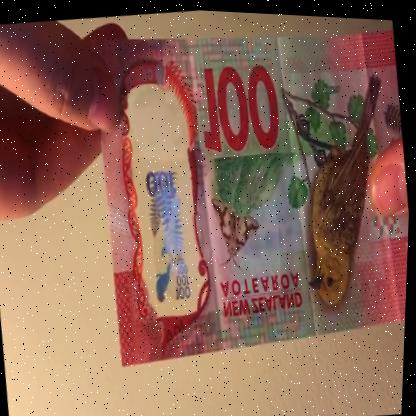100B: (127, 110, 206, 311)
